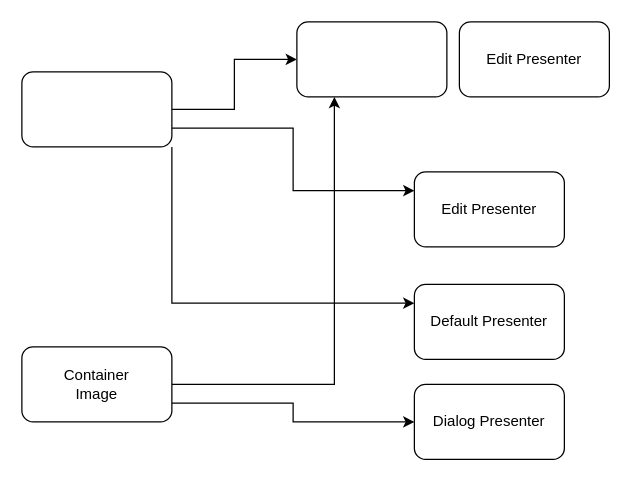
Some shapes in this 631 by 481 pixel diagram are drawn without their labels. Each missing label, with the centre of its shape:
Container InputText: the point at 96,109
useSsate: the point at 371,59
